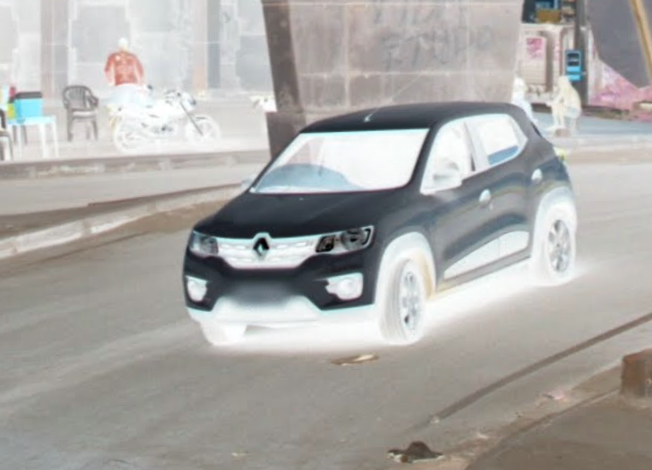car: (180, 72, 578, 345)
